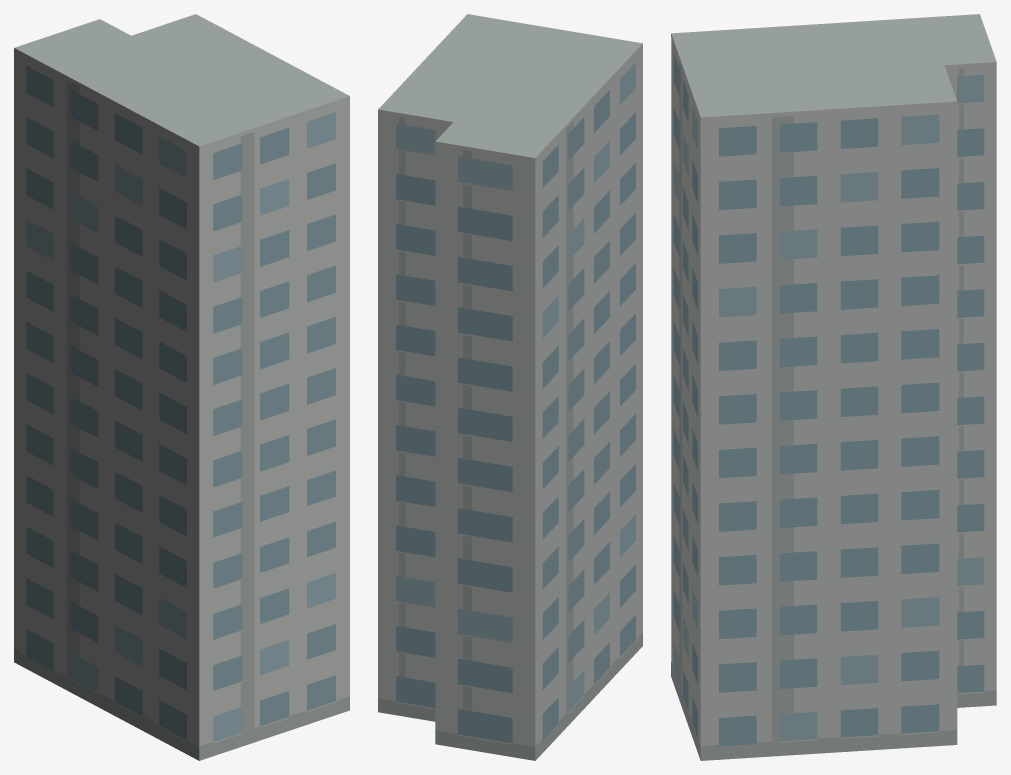
File: residential-dadbe259-a1c1-4afd-998f-8d990791184c.glb
3 renders of one model, left to right at view 1: azimuth 30°, elevation 25°; view 2: azimuth 150°, elevation 25°; view 3: azimuth 270°, elevation 25°, orthographic. The views are drawn at different scales.
Visible parts, largest first — view 1: residential-dadbe259-a1c1-4afd-998f-8d990791184c.tmp; view 2: residential-dadbe259-a1c1-4afd-998f-8d990791184c.tmp; view 3: residential-dadbe259-a1c1-4afd-998f-8d990791184c.tmp.
Part boxes in pixels (left/top/right/bottom): residential-dadbe259-a1c1-4afd-998f-8d990791184c.tmp: left=14, top=14, right=349, bottom=760; residential-dadbe259-a1c1-4afd-998f-8d990791184c.tmp: left=378, top=14, right=642, bottom=760; residential-dadbe259-a1c1-4afd-998f-8d990791184c.tmp: left=671, top=14, right=996, bottom=760.
Bounding box in the file's own units: 13.11 × 38 × 17.43.
